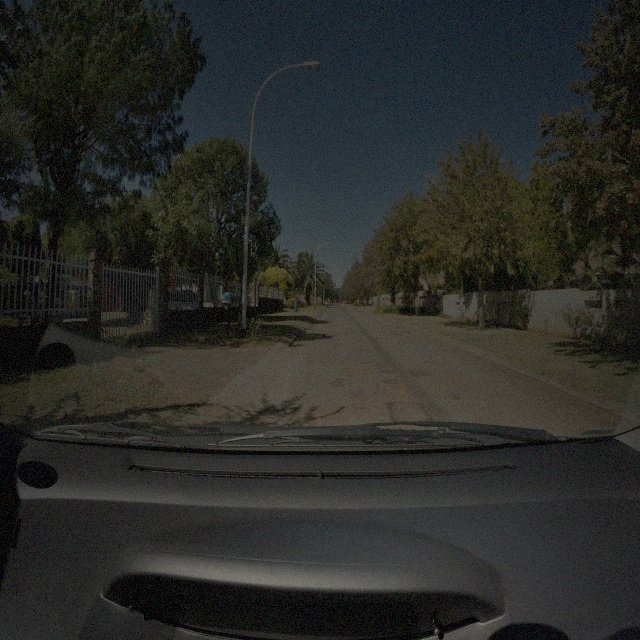pothole: (382, 383, 414, 400), (340, 369, 371, 379), (352, 392, 368, 404), (339, 359, 358, 367)
